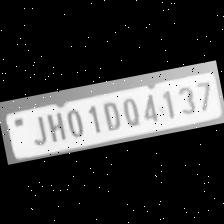0: (61, 104, 87, 140)
1: (80, 101, 104, 137), (156, 85, 178, 120)
3: (172, 80, 197, 116)
4: (136, 88, 162, 124)
7: (192, 76, 218, 112)
D: (96, 96, 122, 132)
H: (42, 107, 68, 143)
J: (26, 110, 48, 146)
Q: (118, 92, 142, 127)
